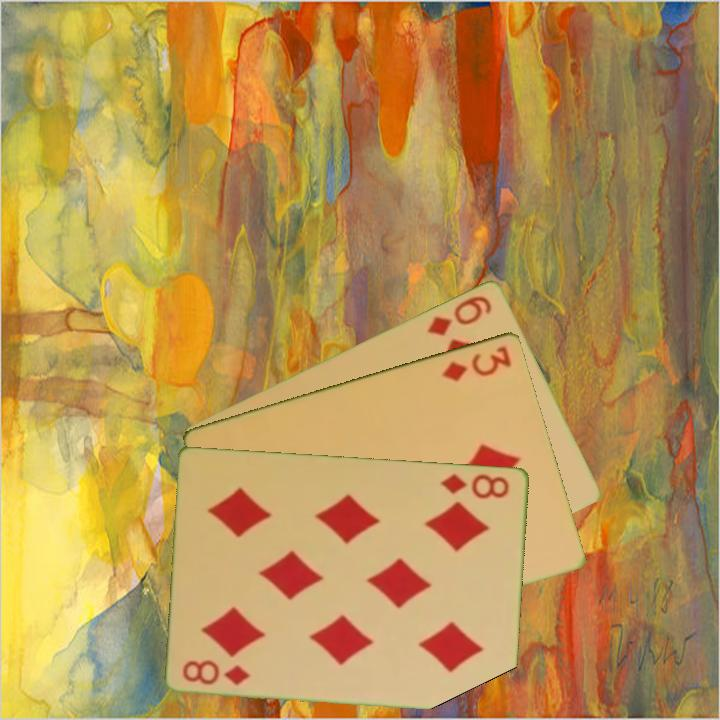3d: (439, 342, 515, 384)
6d: (423, 291, 495, 339)
8d: (179, 656, 253, 688), (437, 470, 513, 501)
